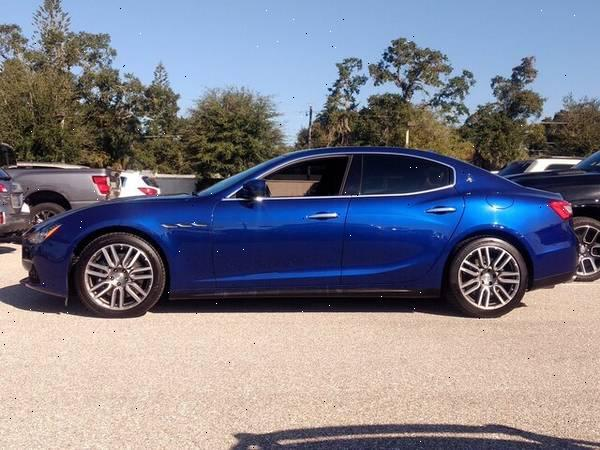Front_Bumper: (20, 243, 72, 300)
Front_Fender: (38, 196, 217, 296)
Front_Left_Door: (210, 197, 352, 295), (458, 185, 565, 236)
Front_Left_Window: (221, 154, 361, 200)
Left_Headlight: (23, 219, 60, 245)
Left_Taillight: (549, 199, 579, 221)
Rear_Bumper: (519, 222, 580, 288)
Rear_Left_Door: (342, 186, 465, 296)
Rear_Left_Window: (352, 153, 456, 197)
Roof: (198, 143, 521, 197)
Wheel: (75, 233, 167, 318), (449, 237, 528, 319)
